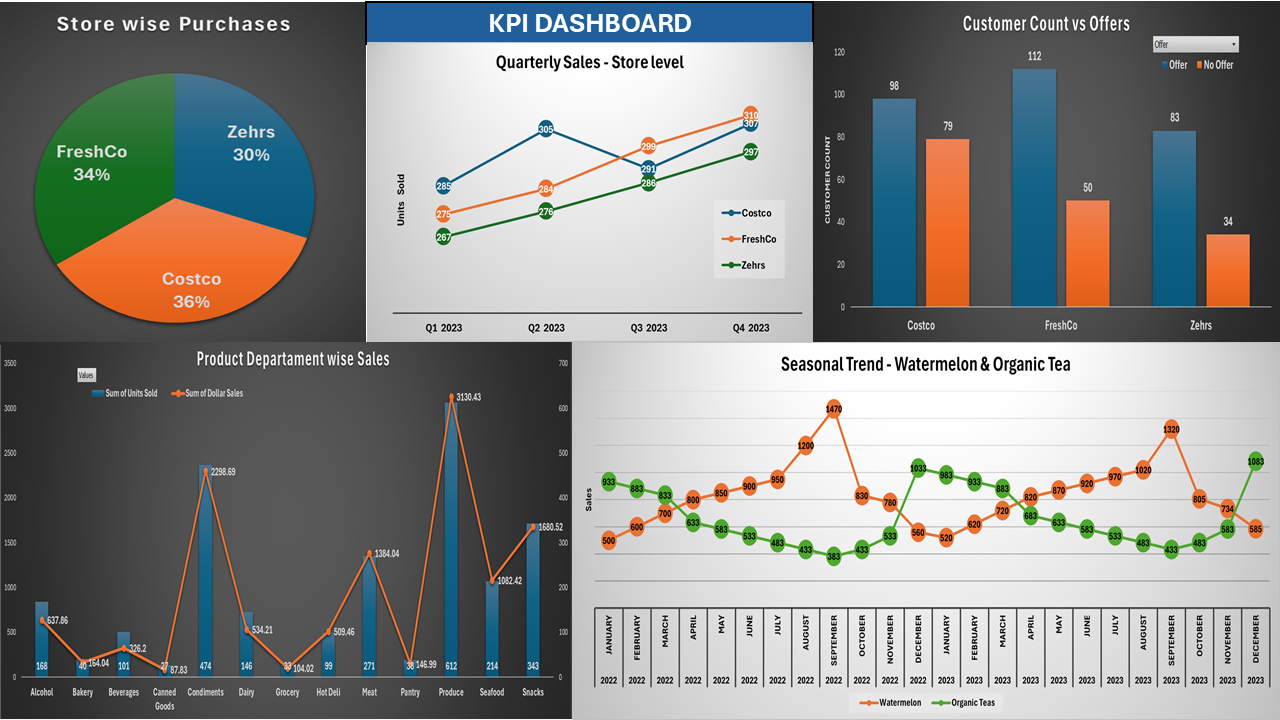

The page's visual inventory and layout, read from the dashboard file:
{"tool":"tableau","page":{"name":"Grocery Sales Performance Dashboard","canvas":[1566,860],"ordinal":0},"visuals":[{"type":"title","box":[8,8,1550,49]},{"type":"worksheet","title":"Product Department wise Sales","mark":"Line","rows":["Dollar Sales","Units Sold"],"cols":["Product Department"],"box":[8,57,557.7,397.5]},{"type":"worksheet","title":"Sales over Time","mark":"Automatic","rows":["Dollar Sales"],"cols":["Date Key"],"box":[565.7,57,320.6,397.5]},{"type":"worksheet","title":"Sales by Store Type","mark":"Pie","box":[886.3,57,238,234.5]},{"type":"worksheet","title":"Offer Impact on Purchases","mark":"Automatic","rows":["Dollar Sales"],"cols":["Offer"],"box":[1124.3,57,313.7,397.5]},{"type":"legend","title":"Sales by Store Type","param":"[federated.0gllan61cf1jju1akws8505g9fg9].[sum:Dollar Sales:qk]","box":[1438,57,120,51]},{"type":"legend","title":"Sales by Store Type","param":"[federated.0gllan61cf1jju1akws8505g9fg9].[none:Store Key:ok]","box":[1438,108,120,93]},{"type":"filter","title":"Customer Purchase Behavior","param":"[federated.0gllan61cf1jju1akws8505g9fg9].[none:Purchased:nk]","box":[1438,201,120,105]},{"type":"worksheet","title":"Age Group vs Dollar Sales","mark":"Square","rows":["Age"],"box":[886.3,291.5,238,163]},{"type":"legend","title":"Age Group vs Dollar Sales","param":"[federated.0gllan61cf1jju1akws8505g9fg9].[sum:Dollar Sales:qk]","box":[1438,306,120,73]},{"type":"legend","title":"Product Sales Comparison","param":"[federated.0gllan61cf1jju1akws8505g9fg9].[none:Veg or Non-Veg:nk]","box":[1438,379,120,72]},{"type":"worksheet","title":"Customer Purchase Behavior","mark":"Automatic","rows":["Customer ID"],"cols":["Store Name"],"box":[8,454.5,357.4,397.5]},{"type":"worksheet","title":"Units Sold vs Dollar Sales","mark":"Bar","rows":["Dollar Sales","Units Sold"],"cols":["Date Key"],"box":[365.4,454.5,440.2,397.5]},{"type":"worksheet","title":"Product Sales Comparison","mark":"Automatic","rows":["Dollar Sales"],"cols":["Product Name"],"box":[805.6,454.5,632.4,397.5]}]}

Visuals, with their boxes in screenshot pixels (x1, y1, x2, y2), scaled from the page's 1566x860 canvas onto the 1280x720 screenshot:
title: (7,7,1273,48)
"Product Department wise Sales" worksheet (Line marks): (7,48,462,381)
"Sales over Time" worksheet: (462,48,724,381)
"Sales by Store Type" worksheet (Pie marks): (724,48,919,244)
"Offer Impact on Purchases" worksheet: (919,48,1175,381)
"Sales by Store Type" legend: (1175,48,1273,90)
"Sales by Store Type" legend: (1175,90,1273,168)
"Customer Purchase Behavior" filter: (1175,168,1273,256)
"Age Group vs Dollar Sales" worksheet (Square marks): (724,244,919,381)
"Age Group vs Dollar Sales" legend: (1175,256,1273,317)
"Product Sales Comparison" legend: (1175,317,1273,378)
"Customer Purchase Behavior" worksheet: (7,381,299,713)
"Units Sold vs Dollar Sales" worksheet (Bar marks): (299,381,658,713)
"Product Sales Comparison" worksheet: (658,381,1175,713)
